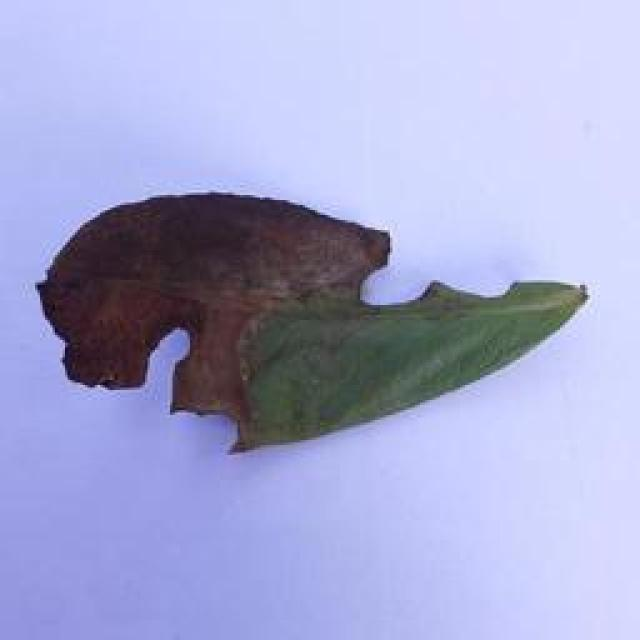Brown Blight: (33, 191, 593, 446)
